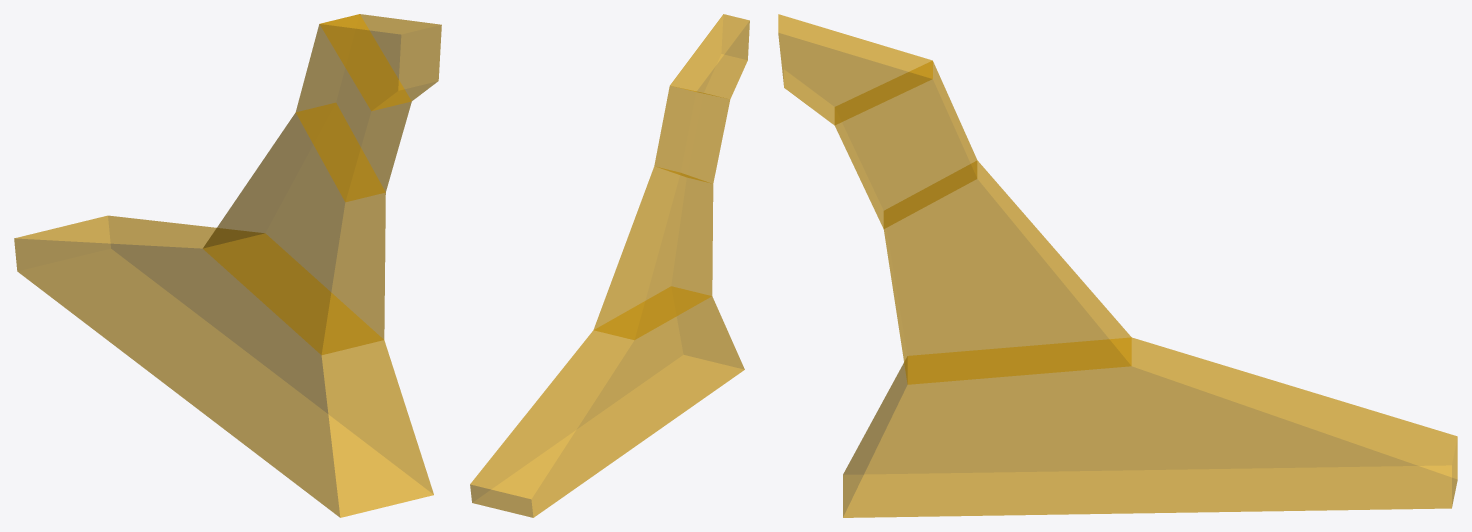
Rendered from SM_Veh_Ship_M_Figurehead_07_Collision.fbx.
3 views of the same model, side by side, from view 1: azimuth 30°, elevation 25°; view 2: azimuth 150°, elevation 25°; view 3: azimuth 270°, elevation 25° (orthographic). The views are drawn at different scales.
Parts seen in each view (by area): view 1: SM_Veh_Ship_M_Figurehead_07_Collision; view 2: SM_Veh_Ship_M_Figurehead_07_Collision; view 3: SM_Veh_Ship_M_Figurehead_07_Collision.
Boxes of the visible parts, left/top/right/bottom form: SM_Veh_Ship_M_Figurehead_07_Collision: left=14, top=14, right=441, bottom=517; SM_Veh_Ship_M_Figurehead_07_Collision: left=470, top=14, right=749, bottom=517; SM_Veh_Ship_M_Figurehead_07_Collision: left=778, top=14, right=1457, bottom=517.
Bounding box in the file's own units: 115 × 587 × 765.
